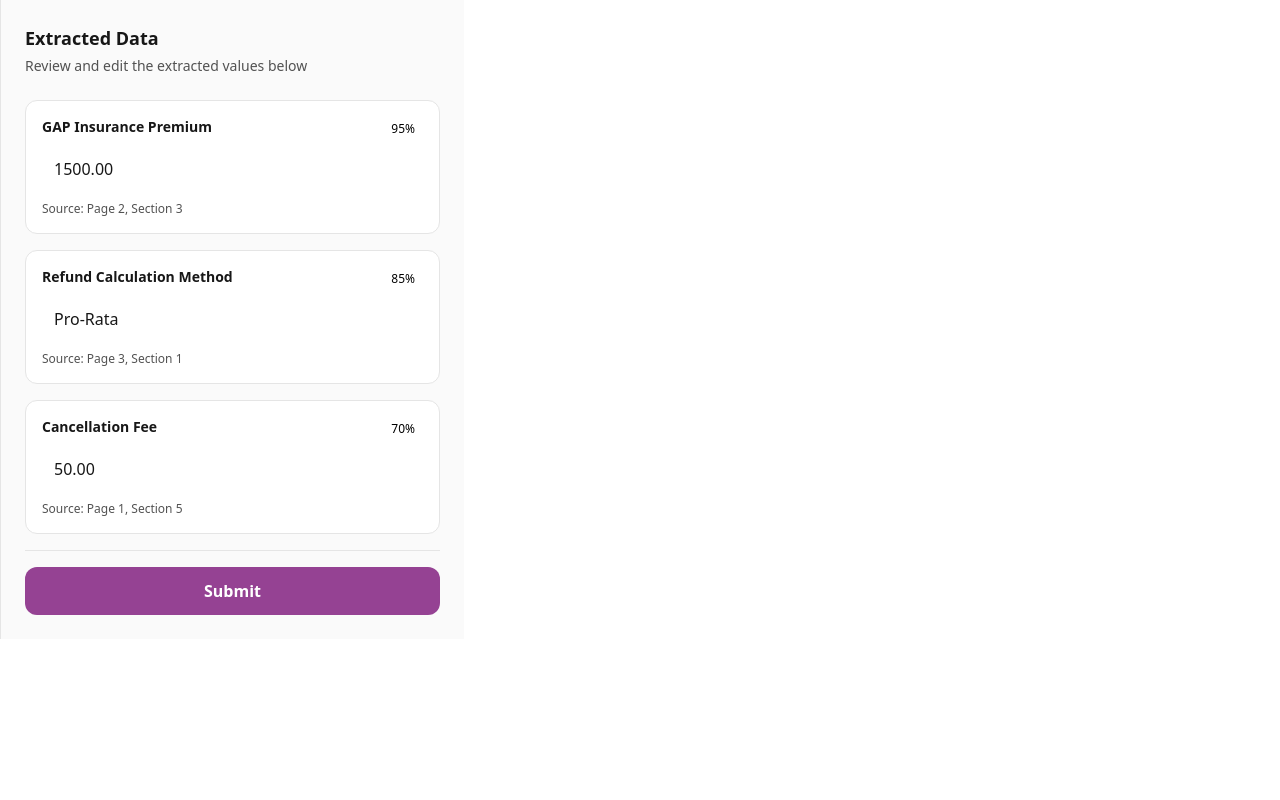
Test: DataPanel Component › Submit Button › should open modal when submit is clicked
Step 1. Click the button "Submit" → (232, 591), box x1=25 y1=567 x2=440 y2=615
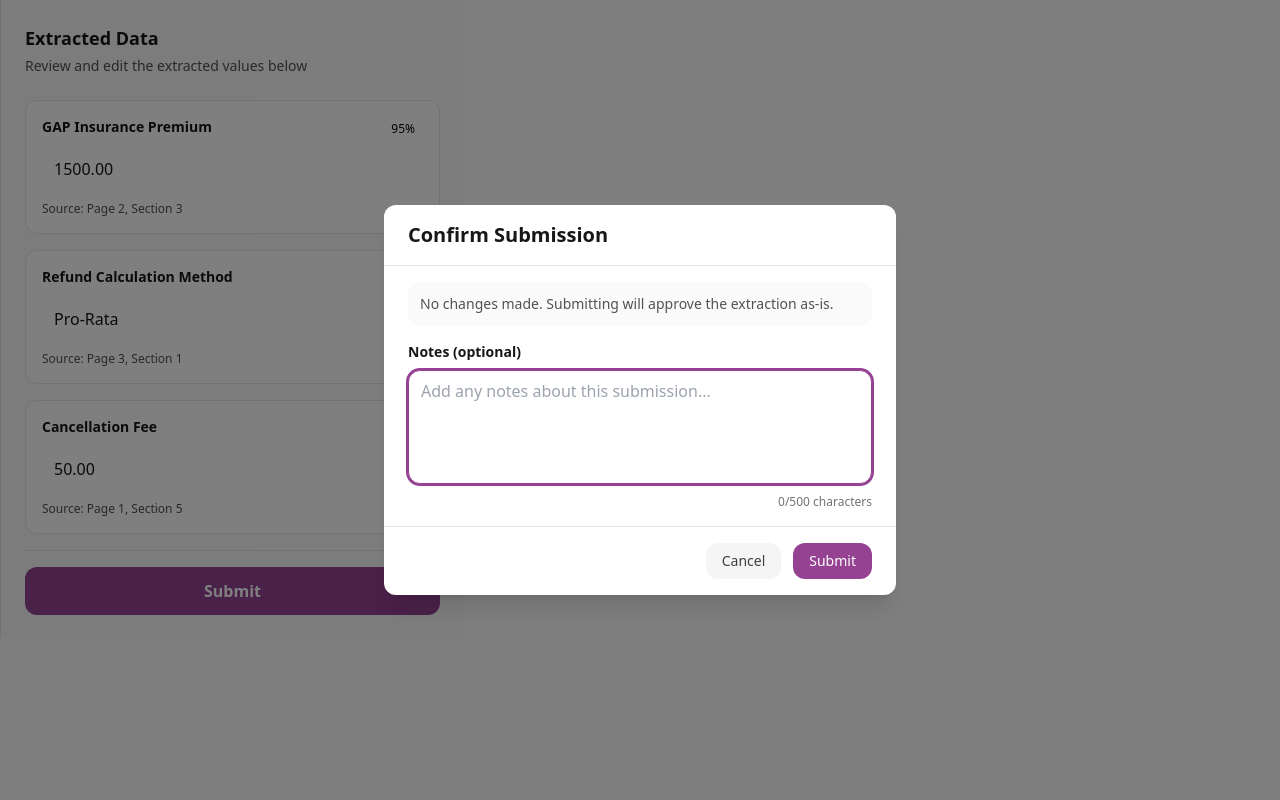
Now the dialog is shown, box x1=384 y1=205 x2=896 y2=595
